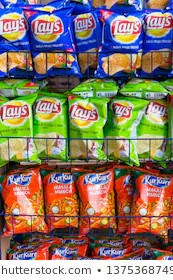lays-med: (31, 6, 75, 83), (97, 11, 139, 80), (69, 97, 110, 160), (105, 99, 146, 159), (139, 7, 173, 79), (1, 9, 34, 81), (1, 97, 35, 165), (35, 100, 69, 163), (137, 105, 168, 165), (74, 11, 98, 75)
